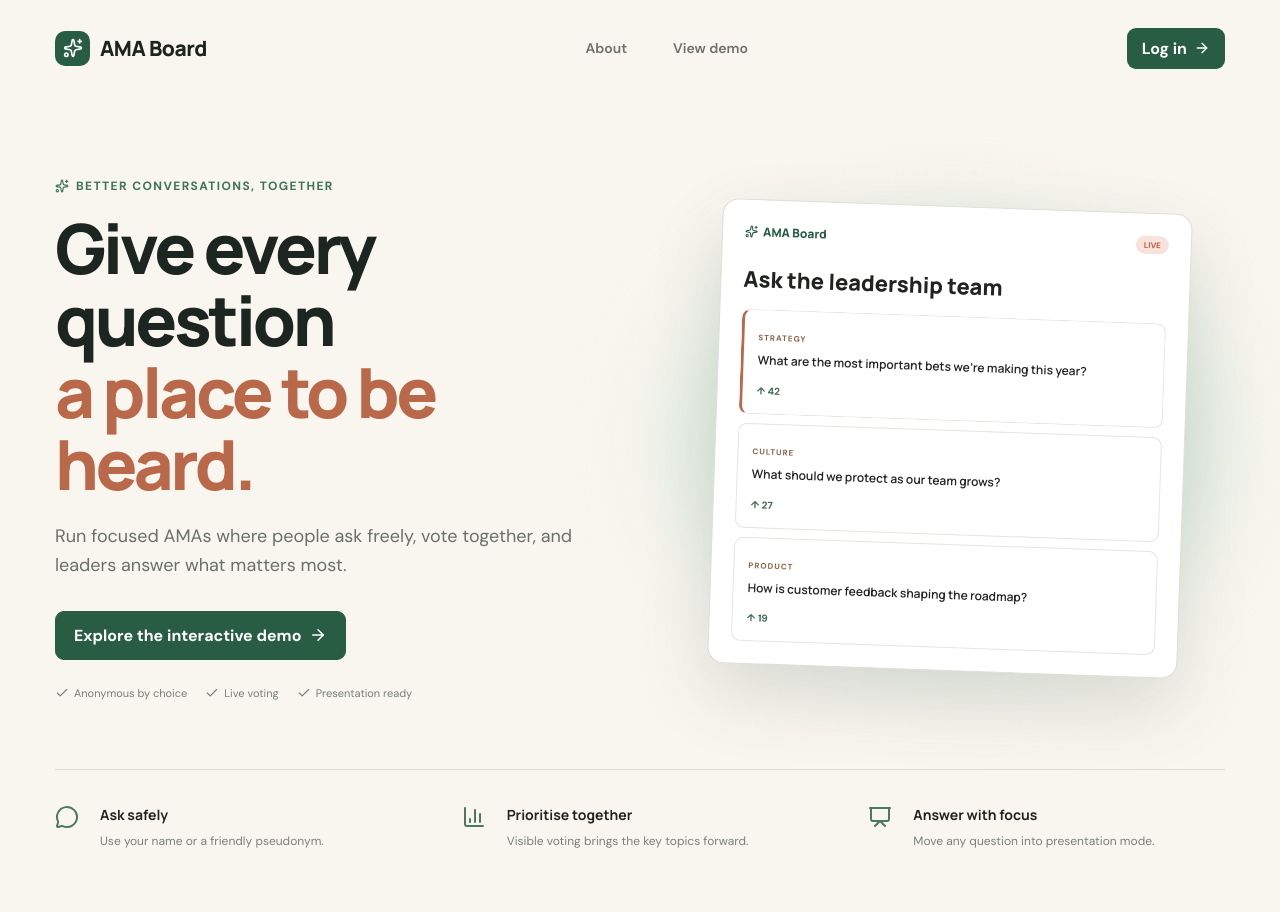
AMA board › opens the about page
This screenshot has width=1280, height=912.
Step 1. Click the button "About" → {"x": 606, "y": 48}, box 580,12 -> 633,84
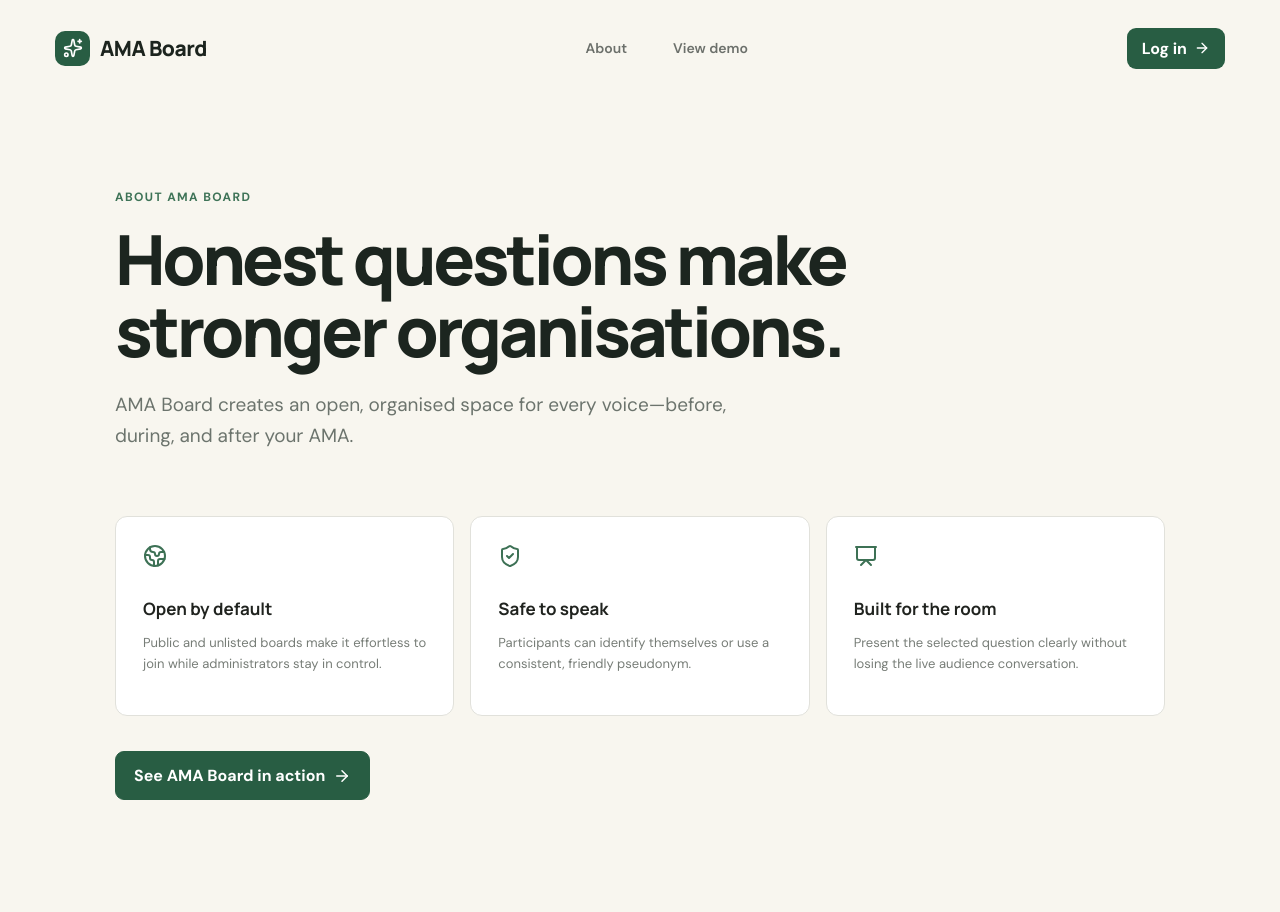
expect the heading "Honest questions" is shown: met, box 115,211 -> 845,378
